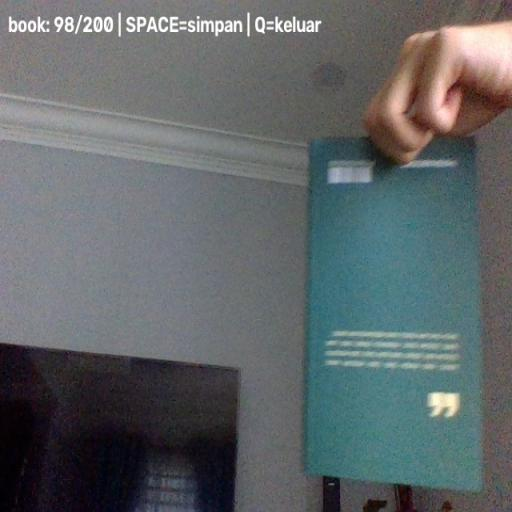Book: (305, 136, 484, 492)
